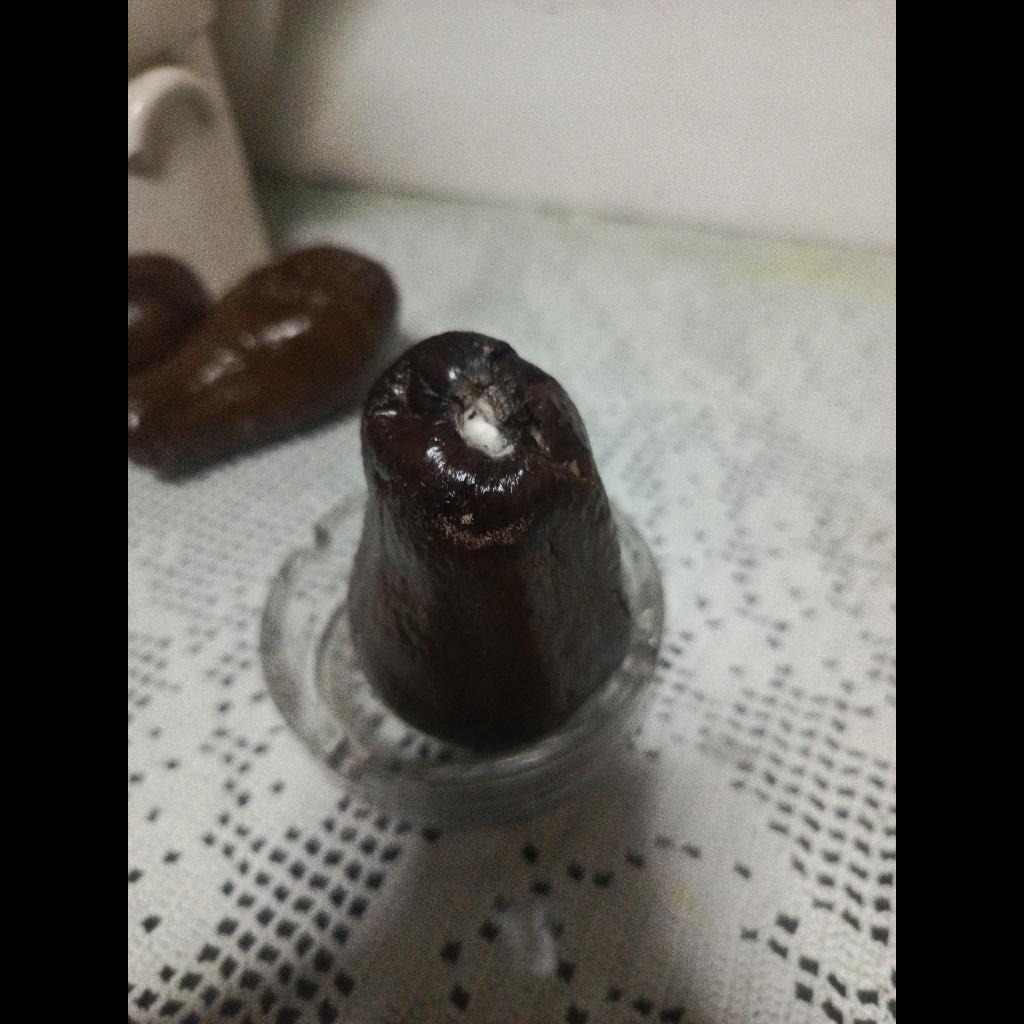stem end rot: (349, 332, 630, 748)
